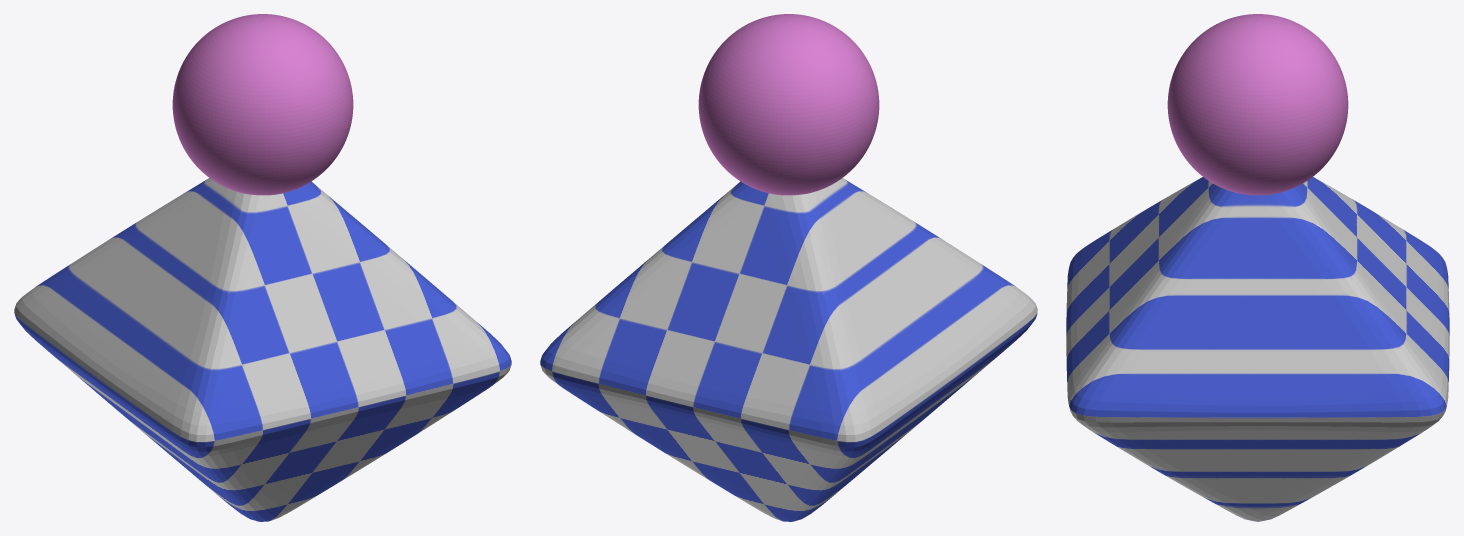
Rendered from BOD4_BMC0_BCC13_BPT4_FRC0_HEA0_HMC10_HCC0_HPT0_ELT0_ERT0_ELL0_ERL0_AP0_AAL0_AAR0_BEK0.fbx.
The picture shows the model from 3 angles, left to right: view 1: azimuth 30°, elevation 25°; view 2: azimuth 150°, elevation 25°; view 3: azimuth 270°, elevation 25°; orthographic projection.
Parts seen in each view (by area): view 1: Body, Head; view 2: Body, Head; view 3: Body, Head.
Part boxes in pixels (x1,y1,x2,y2): Body: (14,178,511,521); Head: (172,14,353,195); Body: (540,178,1037,521); Head: (698,14,879,195); Body: (1066,177,1449,521); Head: (1167,14,1348,195).
Size of the model in its own units: 105 by 150 by 105.
2 materials, 2 textured.
